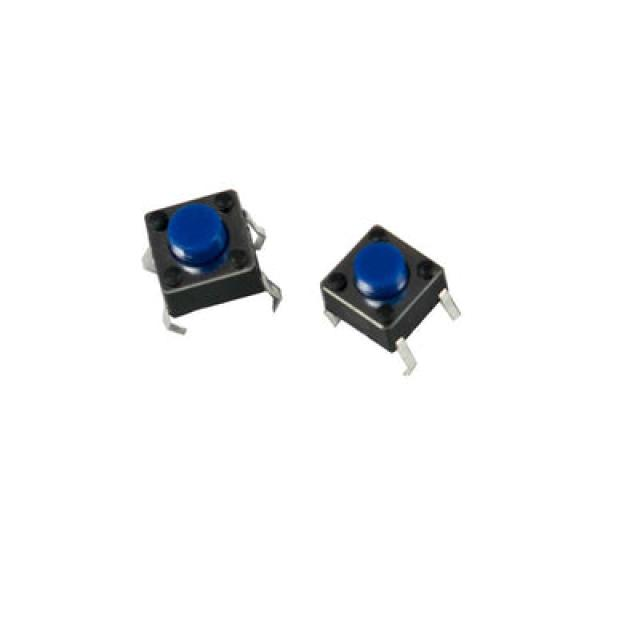Push button: (320, 226, 462, 376), (144, 190, 282, 320)
